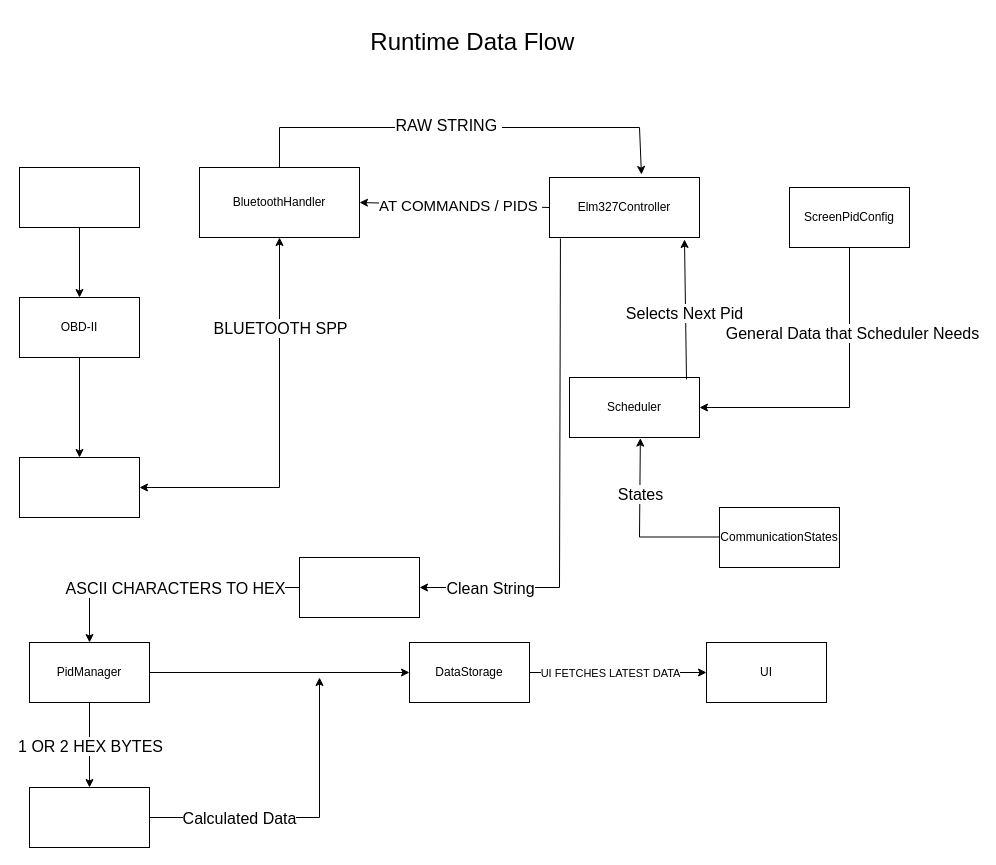
Image size: 996x865. Some labels were removed from this diagram. Each missing label, with the centre of its shape:
"CAR ECU" goes at [79,197].
"ELM327" goes at [79,487].
"ObdParser" goes at [89,817].
"StringParser" goes at [359,587].
